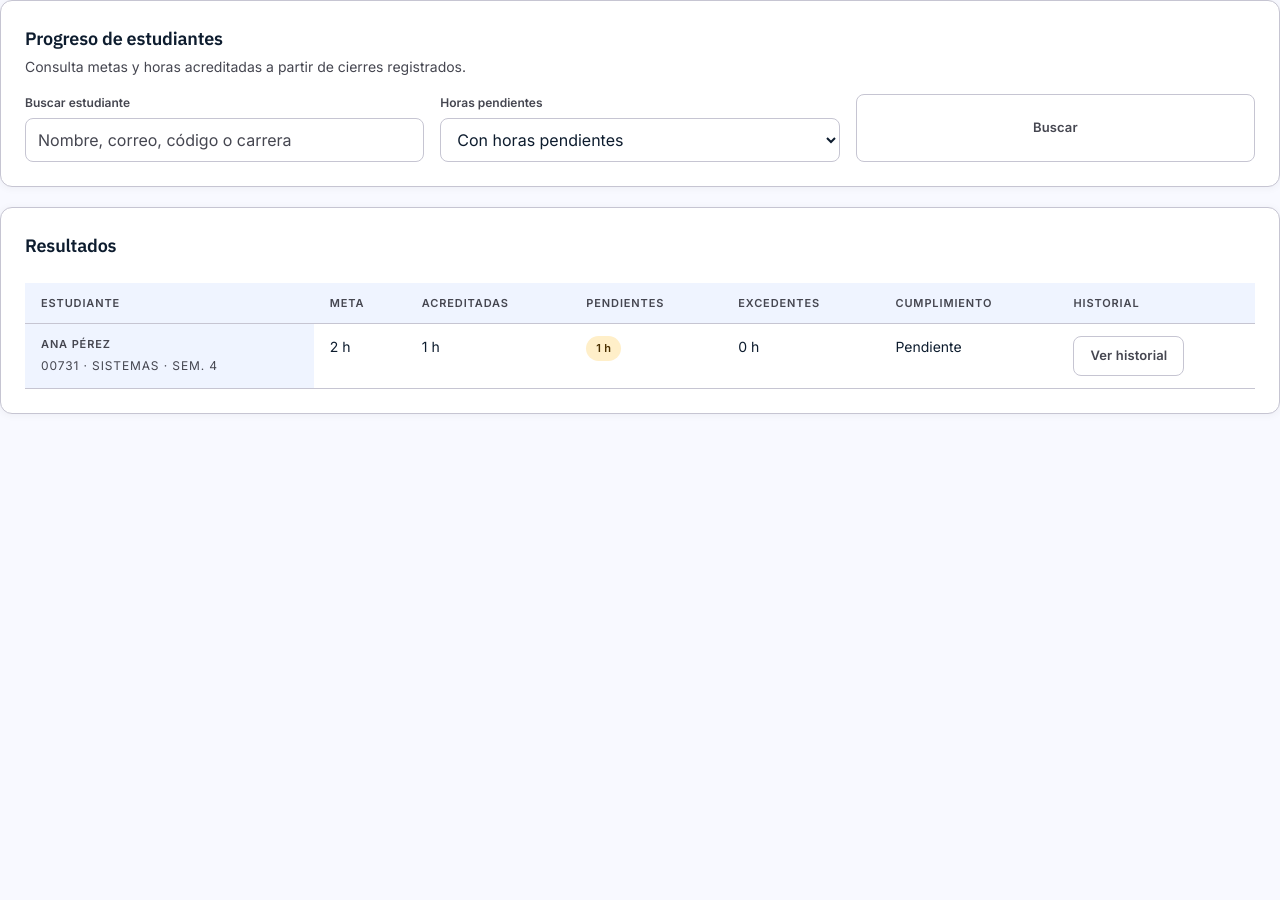
Scenario: supervisión administrativa de progreso › muestra progreso real y abre el historial detallado del estudiante
Expected: the text "Ana Pérez" is shown, left=41, top=337, right=111, bottom=351
Expected: the text "00731 · Sistemas · sem. 4" is shown, left=41, top=358, right=218, bottom=373
Step 1. Click the button "Ver historial" → (1129, 356), box left=1073, top=336, right=1184, bottom=376
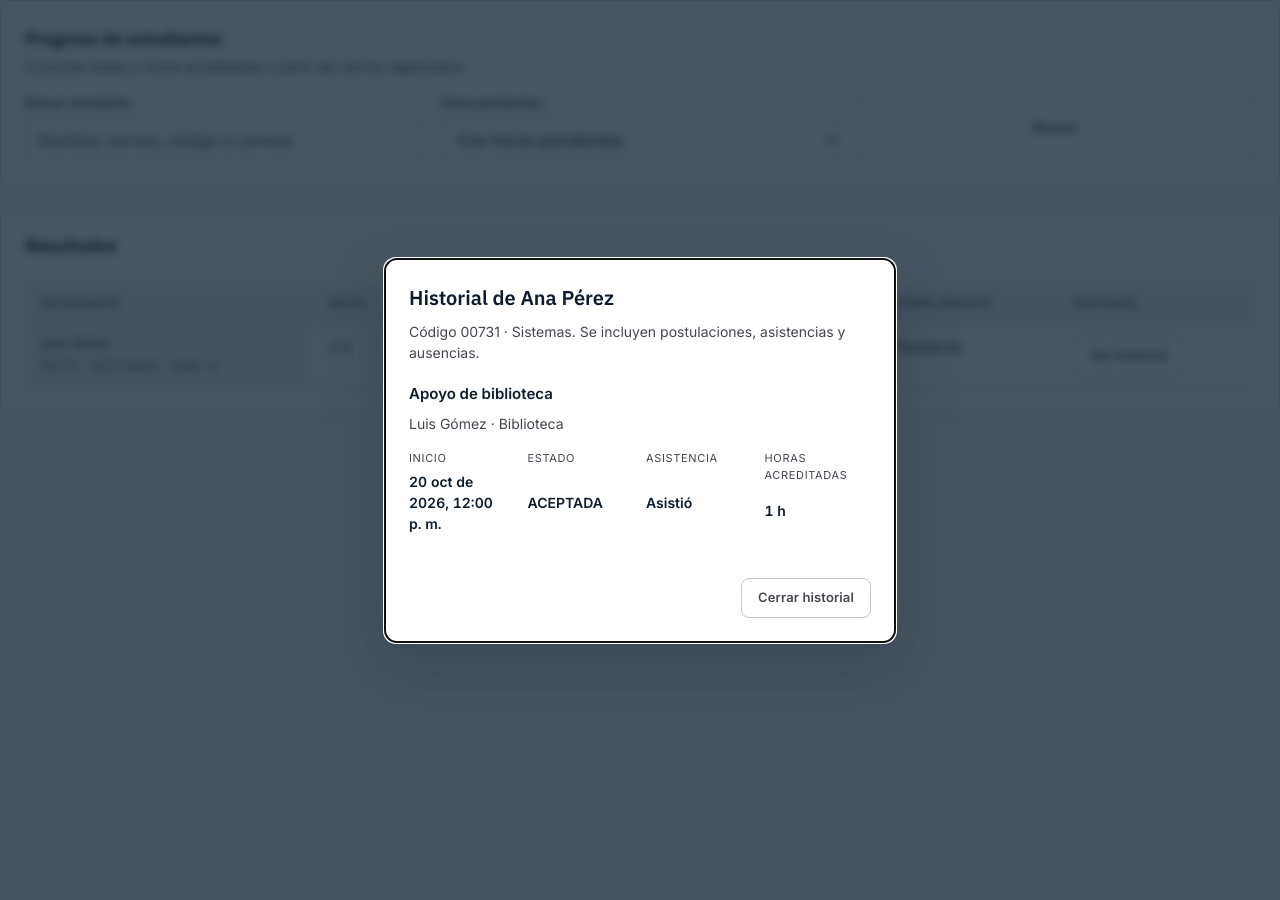
Expected: the dialog "Historial de Ana Pérez" is shown, left=384, top=258, right=896, bottom=642
Expected: the heading "Apoyo de biblioteca" is shown, left=409, top=384, right=553, bottom=402
Expected: the text "Asistió" is shown, left=646, top=494, right=692, bottom=510
Step 2. Click the button "Cerrar historial" → (806, 598), box left=741, top=578, right=871, bottom=618
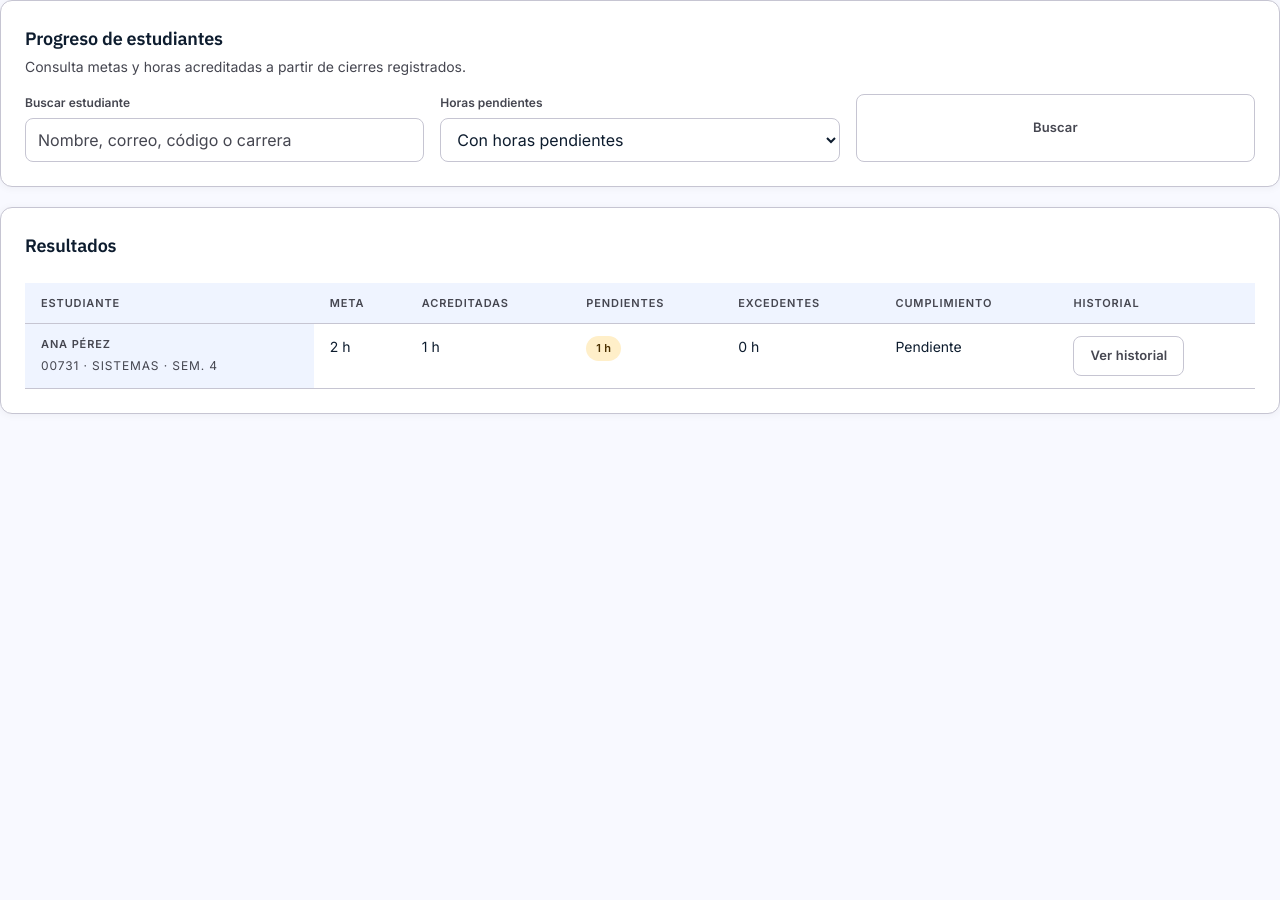
Expected: the dialog is gone
